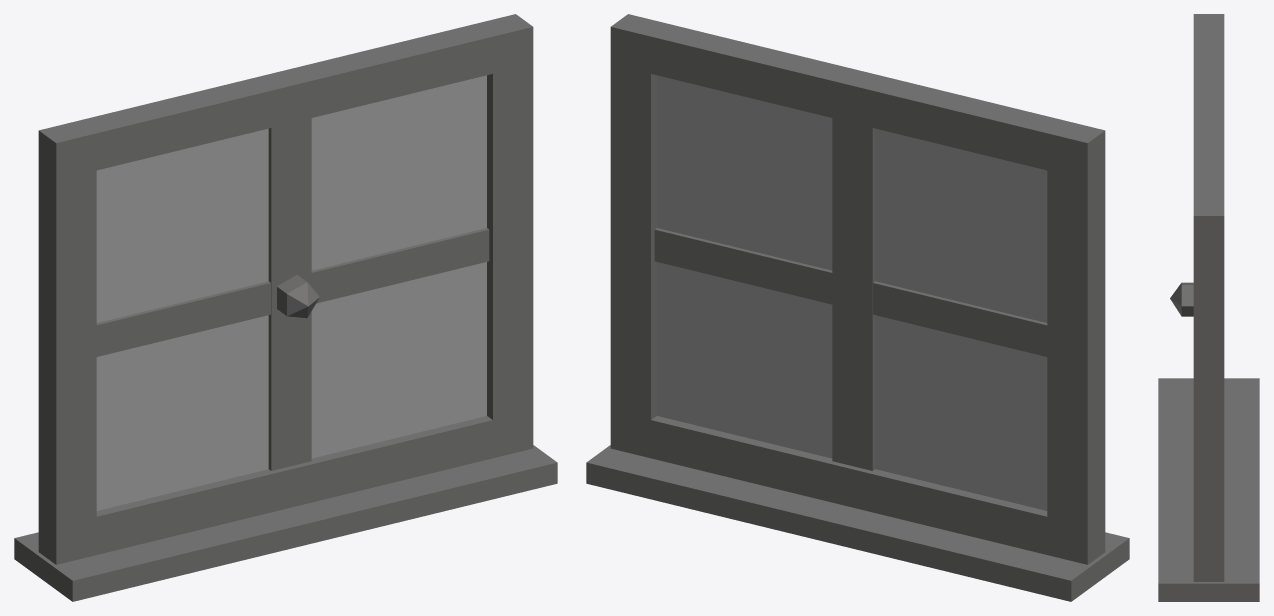
File: Window_2B.fbx
3 renders of one model, left to right at view 1: azimuth 30°, elevation 25°; view 2: azimuth 150°, elevation 25°; view 3: azimuth 270°, elevation 25°, orthographic. The views are drawn at different scales.
Visible parts, largest first — view 1: polySurface1841, Window_Glass_1; view 2: polySurface1841, Window_Glass_1; view 3: polySurface1841.
Boxes of the visible parts, box(x1,y1,x2,y2) form: polySurface1841: box(14, 14, 557, 601); Window_Glass_1: box(96, 75, 486, 510); polySurface1841: box(586, 14, 1129, 601); Window_Glass_1: box(657, 75, 1047, 510); polySurface1841: box(1158, 14, 1259, 601).
Size of the model in its own units: 2.4 by 2.09 by 0.5.
2 materials, 1 textured.
